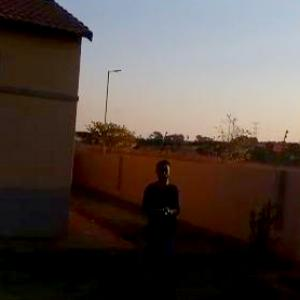follow: (134, 157, 184, 299)
